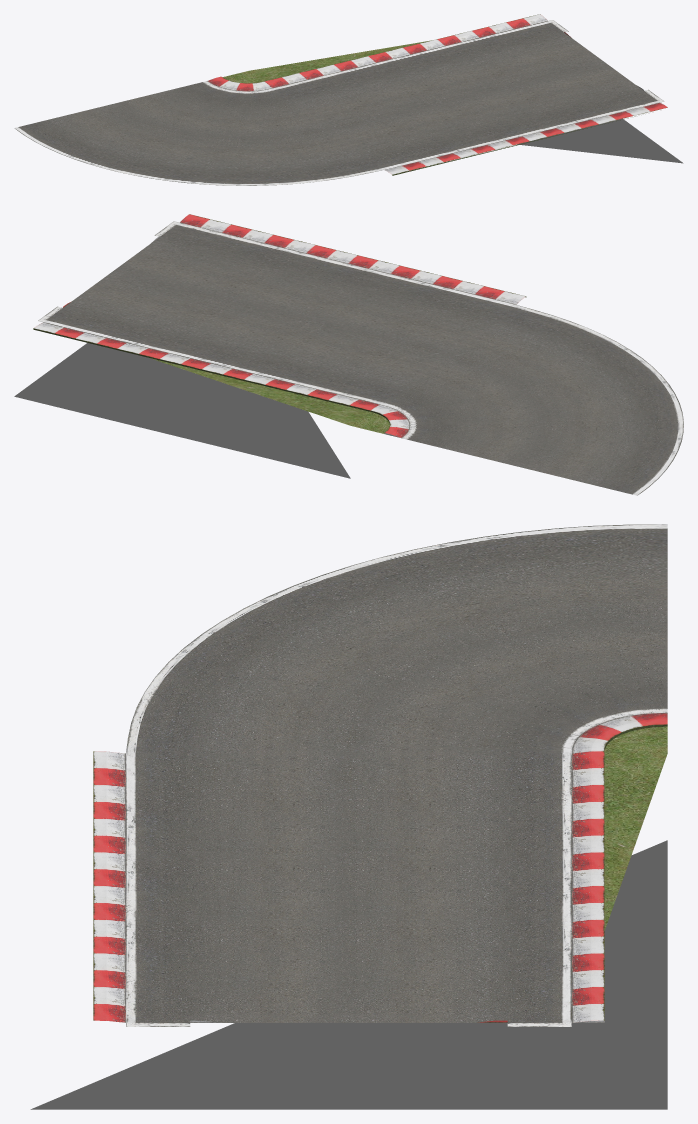
File: map9.obj
The picture shows the model from 3 angles, top to bottom: view 1: azimuth 30°, elevation 25°; view 2: azimuth 150°, elevation 25°; view 3: azimuth 270°, elevation 25°; orthographic projection. The views are drawn at different scales.
Visible parts, largest first — view 1: map4.002; view 2: map4.002; view 3: map4.002.
Boxes of the visible parts, x1=… form: map4.002: x1=14, y1=14, x2=683, y2=185; map4.002: x1=14, y1=214, x2=683, y2=495; map4.002: x1=30, y1=524, x2=667, y2=1109.
Bounding box in the file's own units: 9.43 × 0.7756 × 5.05.
Materials: 4 (3 with a texture image).
